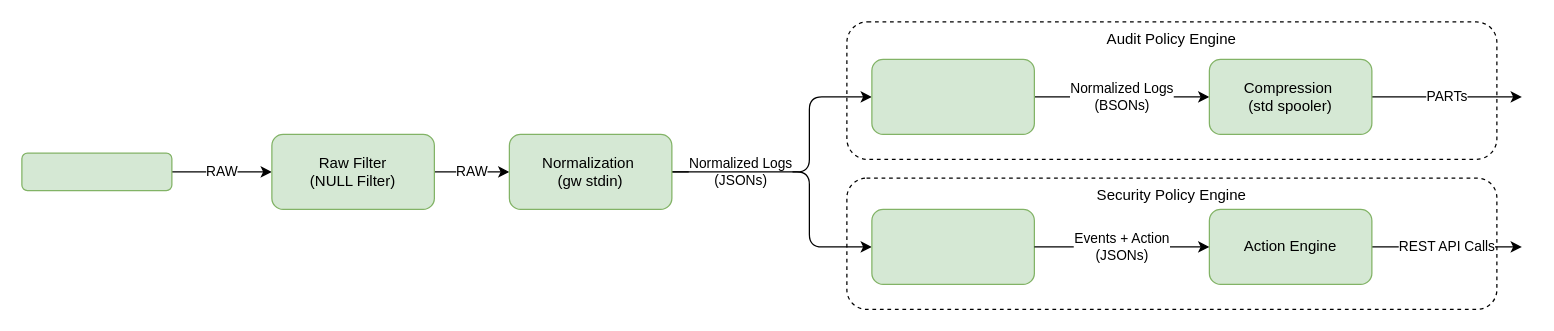
Some shapes in this 1554 by 331 pixel diagram are drawn without their labels. Each missing label, with the centre of its shape:
"Audit Policy Filter (Match Criteria)" goes at pixel 952 96.
"raw logs" goes at pixel 96 171.
"Security Policy Filter" goes at pixel 952 246.
